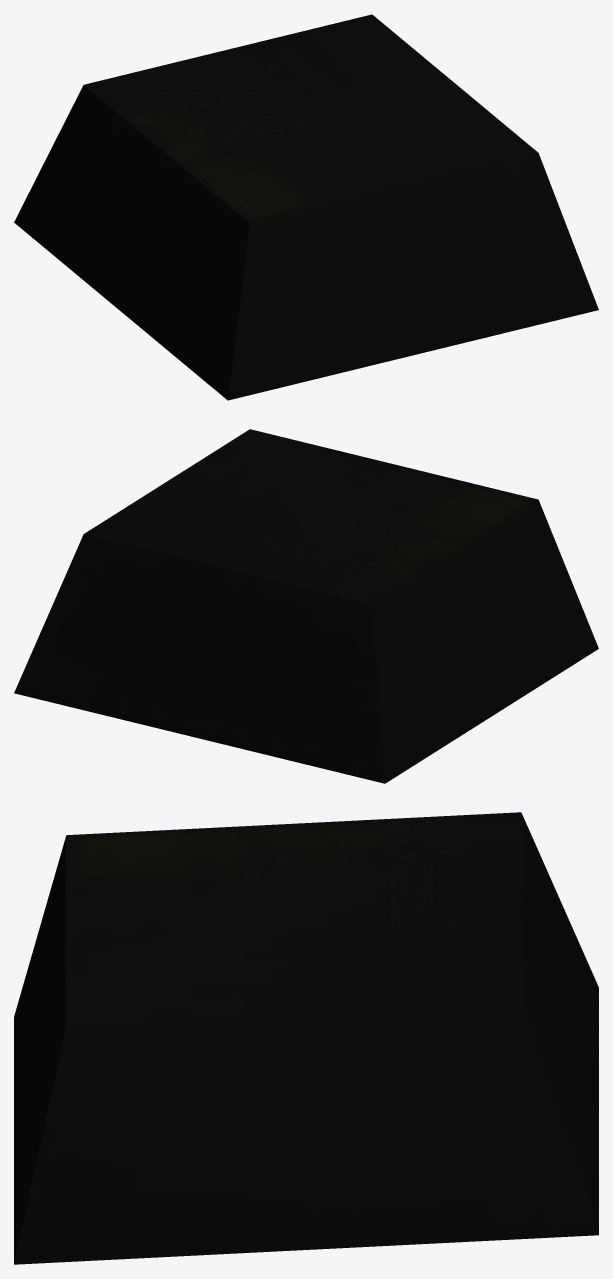
File: link_100__key-106.glb
The picture shows the model from 3 angles, top to bottom: view 1: azimuth 30°, elevation 25°; view 2: azimuth 150°, elevation 25°; view 3: azimuth 270°, elevation 25°; orthographic projection. The views are drawn at different scales.
Parts seen in each view (by area): view 1: world; view 2: world; view 3: world.
Boxes of the visible parts, x1=… form: world: x1=14, y1=14, x2=598, y2=400; world: x1=14, y1=429, x2=598, y2=783; world: x1=14, y1=812, x2=598, y2=1264.
Size of the model in its own units: 0.0719 by 0.0315 by 0.0718.
Materials: 1 (1 with a texture image).
